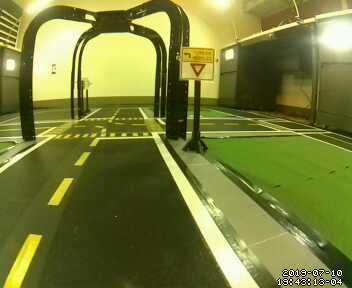Turn Yield: (180, 46, 214, 83)
